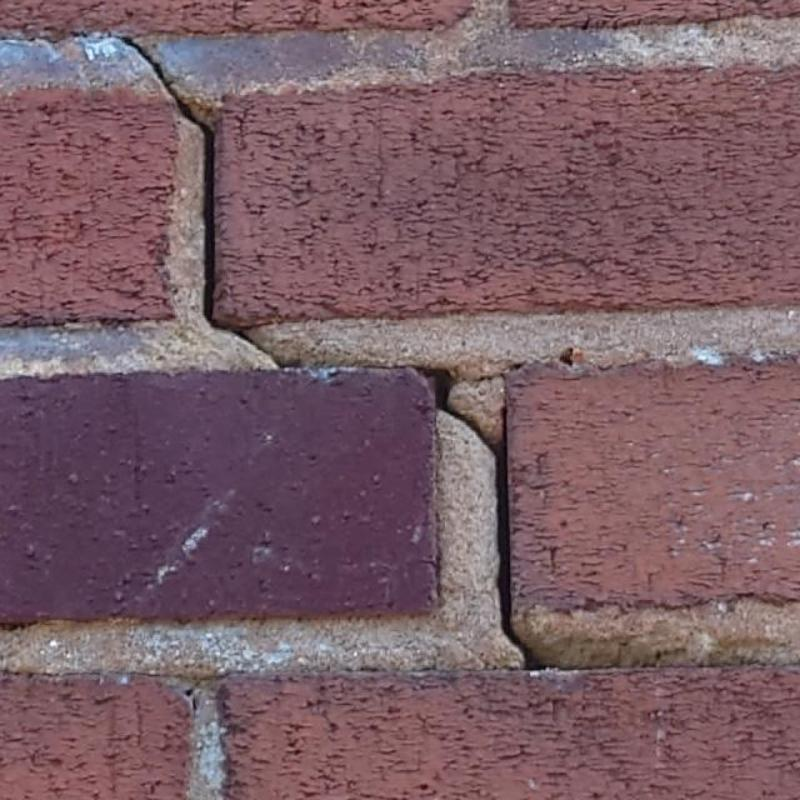pothole: (376, 365, 616, 670), (118, 36, 293, 368)
